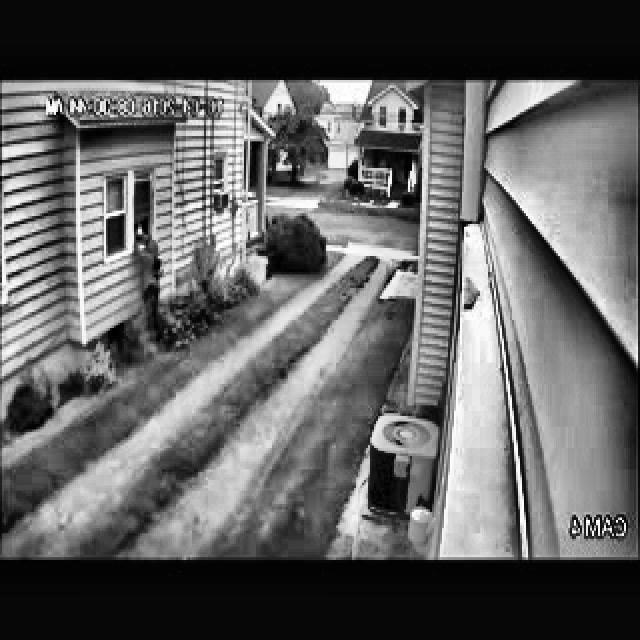burglary: (96, 160, 172, 338)
